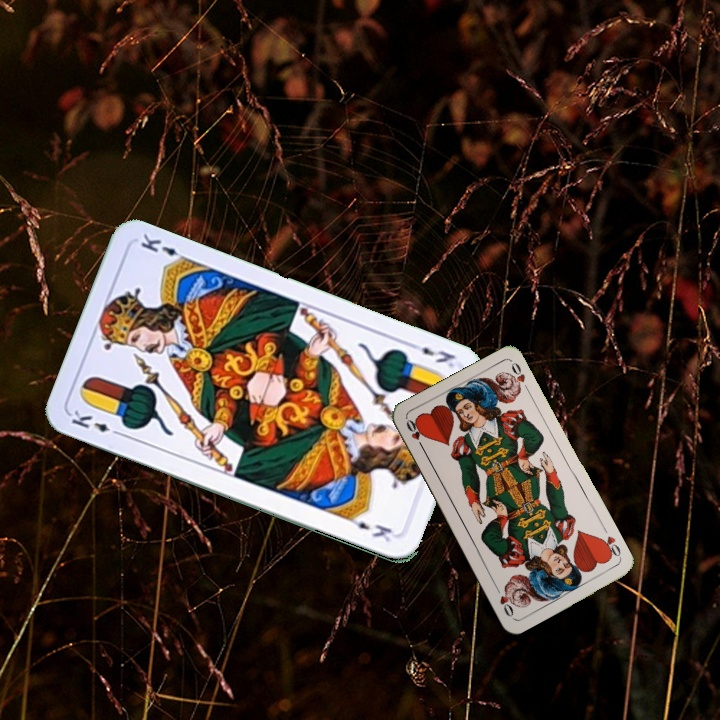EK: (67, 406, 125, 438), (406, 339, 459, 370)
HO: (402, 415, 427, 453), (596, 532, 624, 561)
